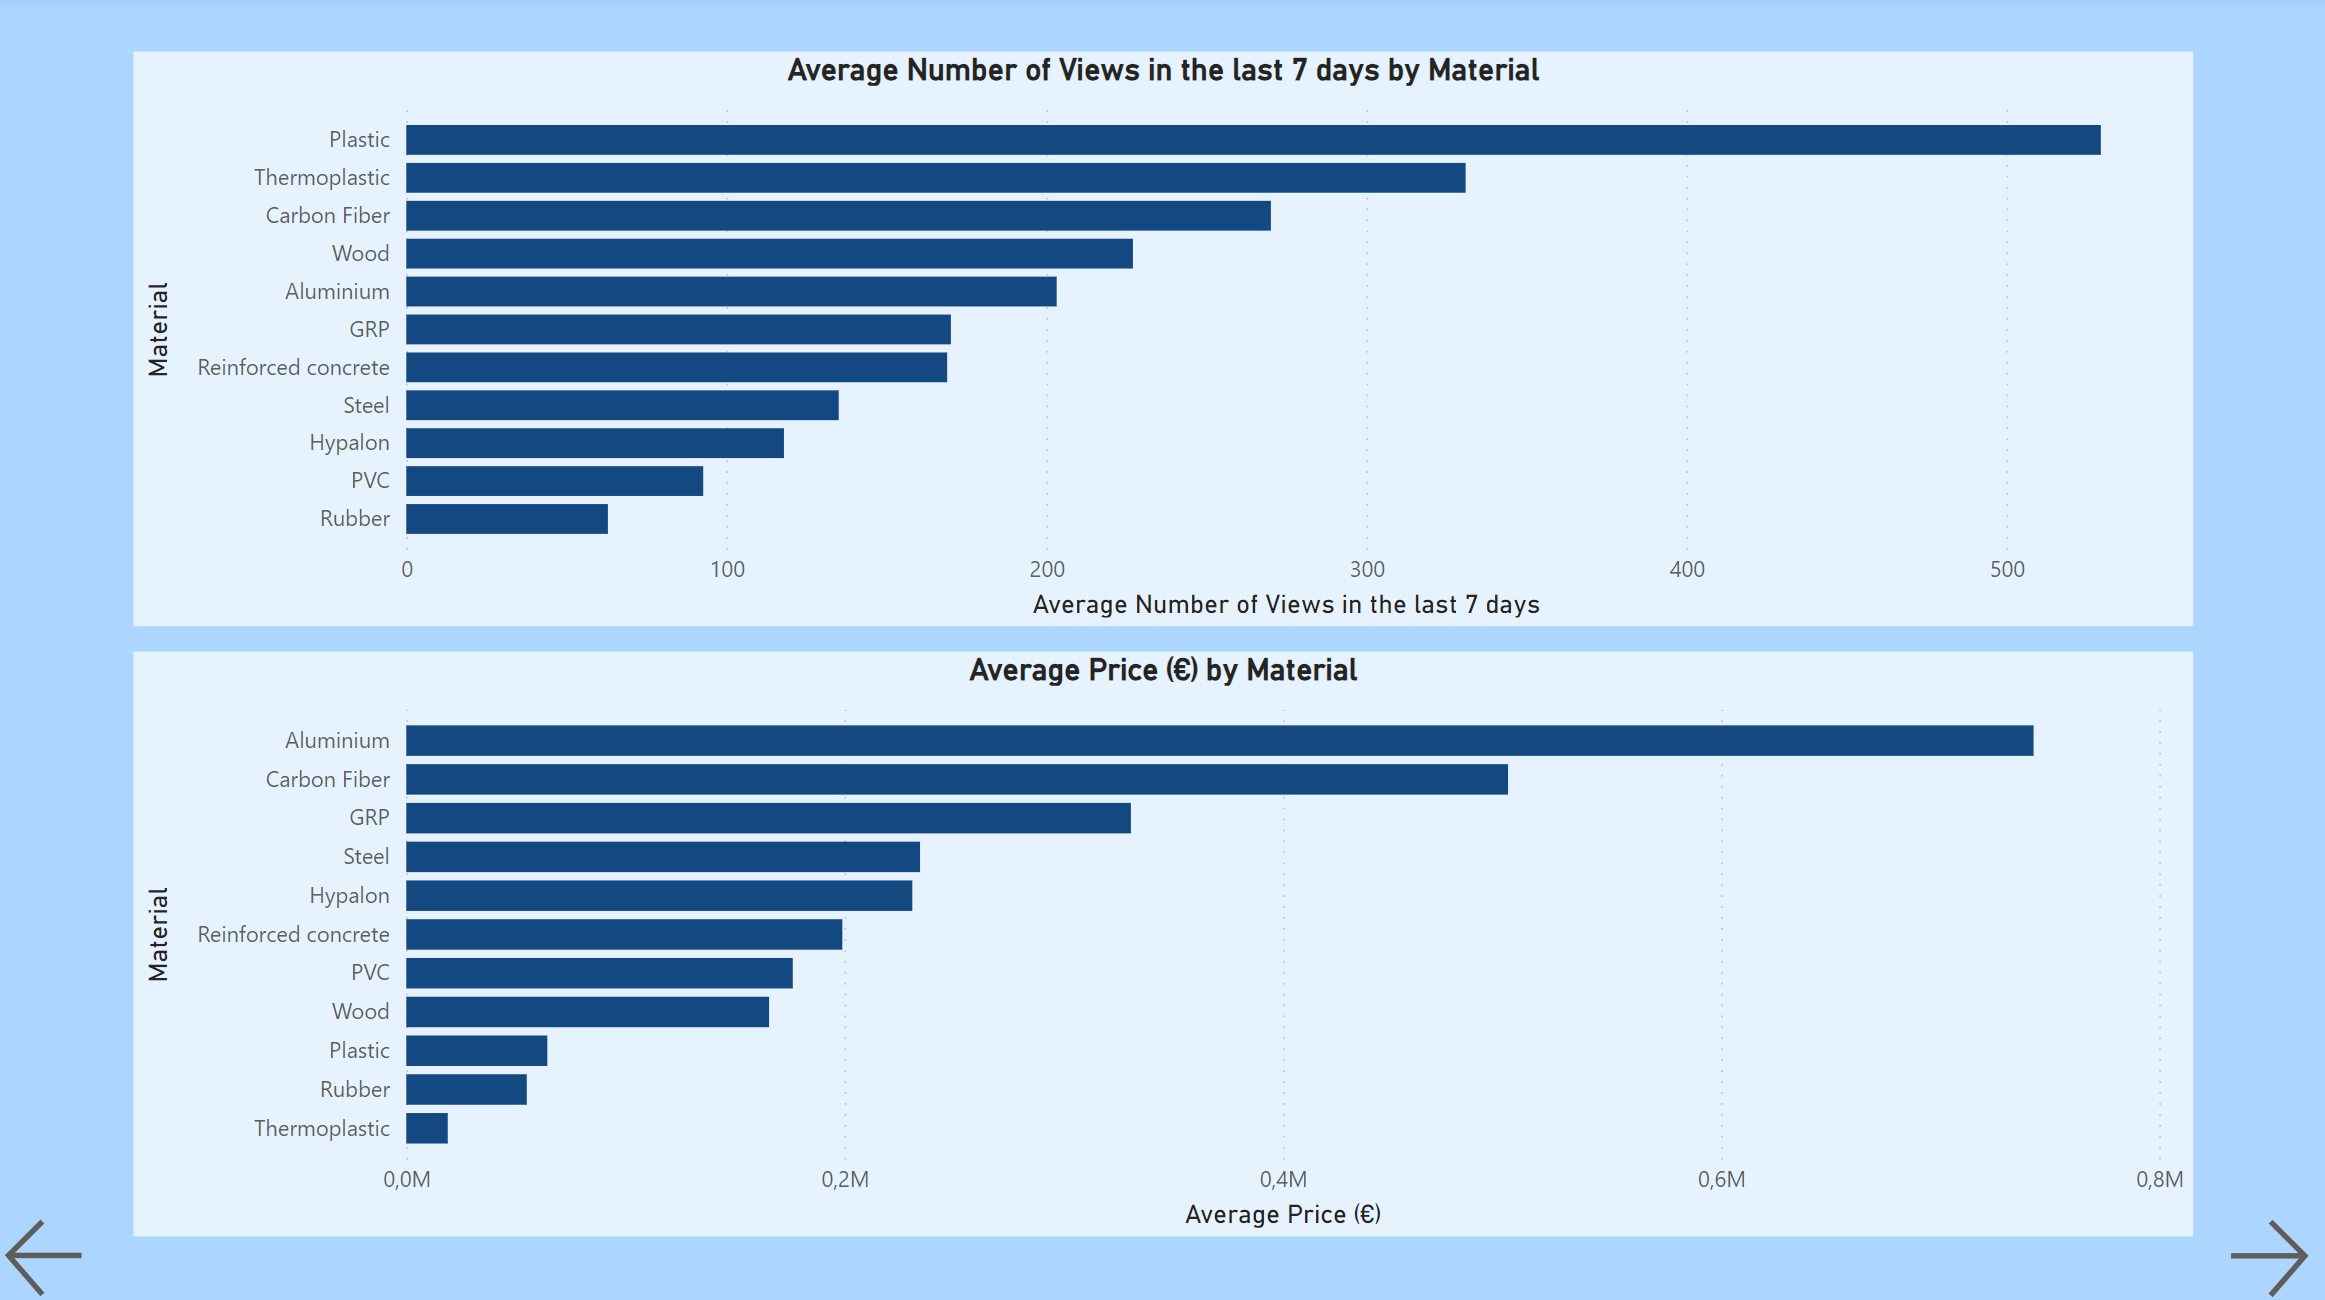

The page's visual inventory and layout, read from the dashboard file:
{"tool":"powerbi","page":{"name":"Page 3","canvas":[1280,720],"ordinal":3},"visuals":[{"type":"barChart","title":"Average Number of Views in the last 7 days by Material","fields":{"Y":["Avg(boat_data_clean.Number of views last 7 days)"],"Category":["boat_data_clean.Material"]},"box":[75.4,31.5,1129.7,315.3],"z":0},{"type":"actionButton","box":[1219.3,665.7,60.3,54.3],"z":1000},{"type":"actionButton","box":[0,666.2,68.5,53.8],"z":2000},{"type":"barChart","title":"Average Price (€) by Material","fields":{"Y":["Avg(boat_data_clean.Precio_EUR)"],"Category":["boat_data_clean.Material"]},"box":[75.4,360.6,1129.7,320.8],"z":2001}]}

Visuals, with their boxes in screenshot pixels (x1, y1, x2, y2), scaled from the page's 1280x720 canvas onto the 2325x1300 screenshot:
"Average Number of Views in the last 7 days by Material" barChart: bbox=[137, 57, 2189, 626]
actionButton: bbox=[2215, 1202, 2324, 1299]
actionButton: bbox=[0, 1203, 124, 1299]
"Average Price (€) by Material" barChart: bbox=[137, 651, 2189, 1230]
